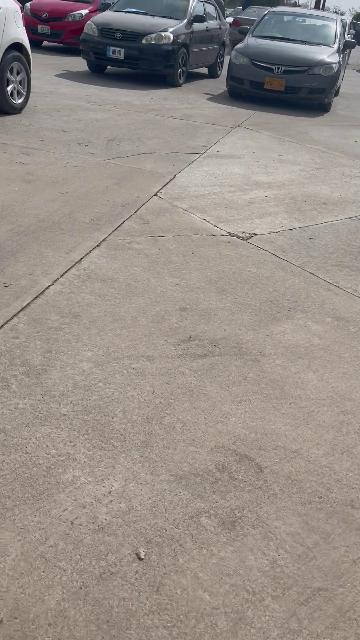plate: (264, 77, 286, 91), (106, 46, 124, 59), (38, 25, 50, 34)
